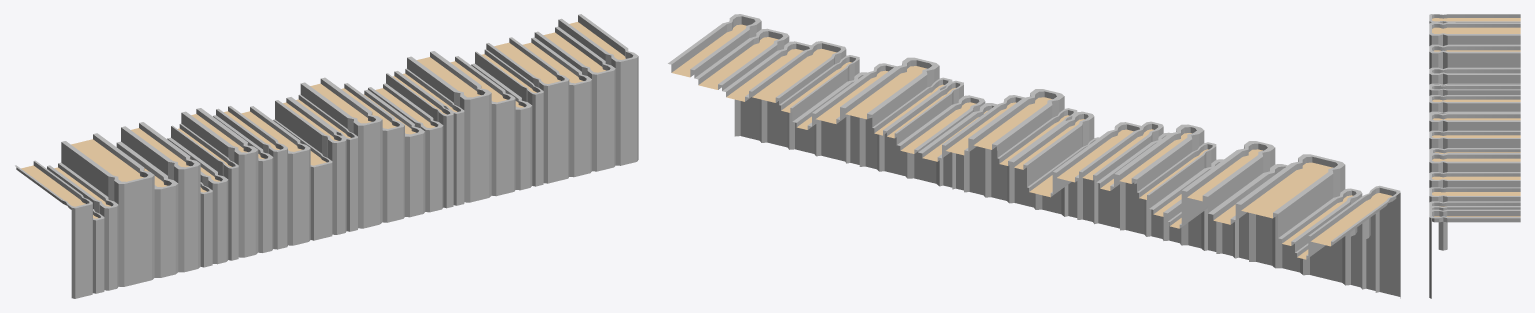
Rendered from prop_biblioteca_libros006.fbx.
3 views of the same model, side by side, from view 1: azimuth 30°, elevation 25°; view 2: azimuth 150°, elevation 25°; view 3: azimuth 270°, elevation 25° (orthographic). The views are drawn at different scales.
Visible parts, largest first — view 1: prop_biblioteca_libros006; view 2: prop_biblioteca_libros006; view 3: prop_biblioteca_libros006.
Part boxes in pixels (bbox=[...]): prop_biblioteca_libros006: bbox=[15, 14, 638, 298]; prop_biblioteca_libros006: bbox=[668, 14, 1400, 298]; prop_biblioteca_libros006: bbox=[1429, 14, 1520, 298].
Bounding box in the file's own units: 200 × 35.05 × 36.04.
